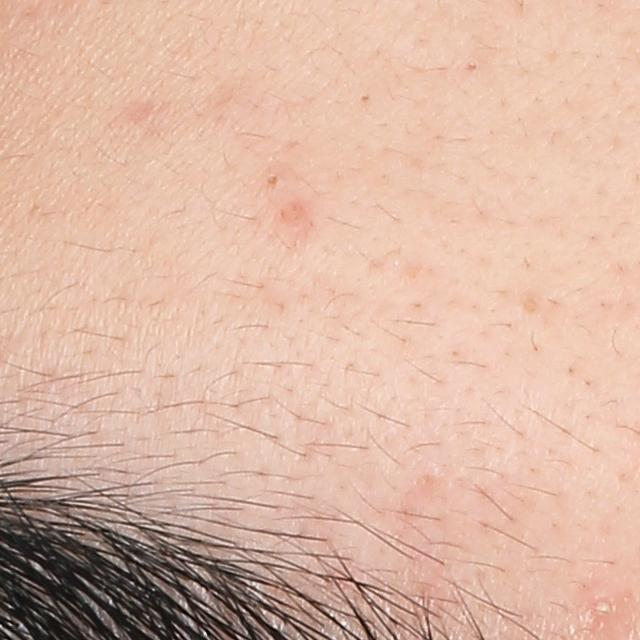comedo: (264, 171, 282, 190), (461, 60, 479, 72), (357, 92, 374, 104)
pustule: (580, 583, 624, 627)
